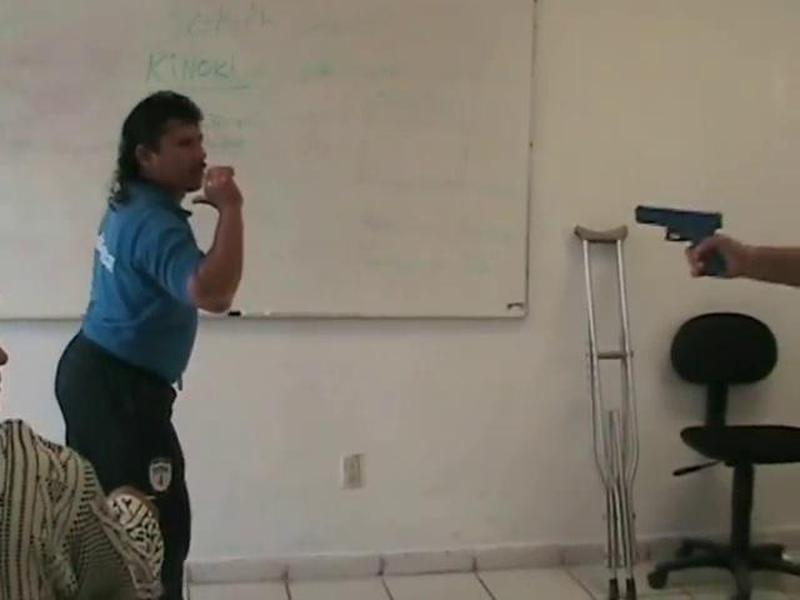Pistola: (607, 197, 732, 287)
